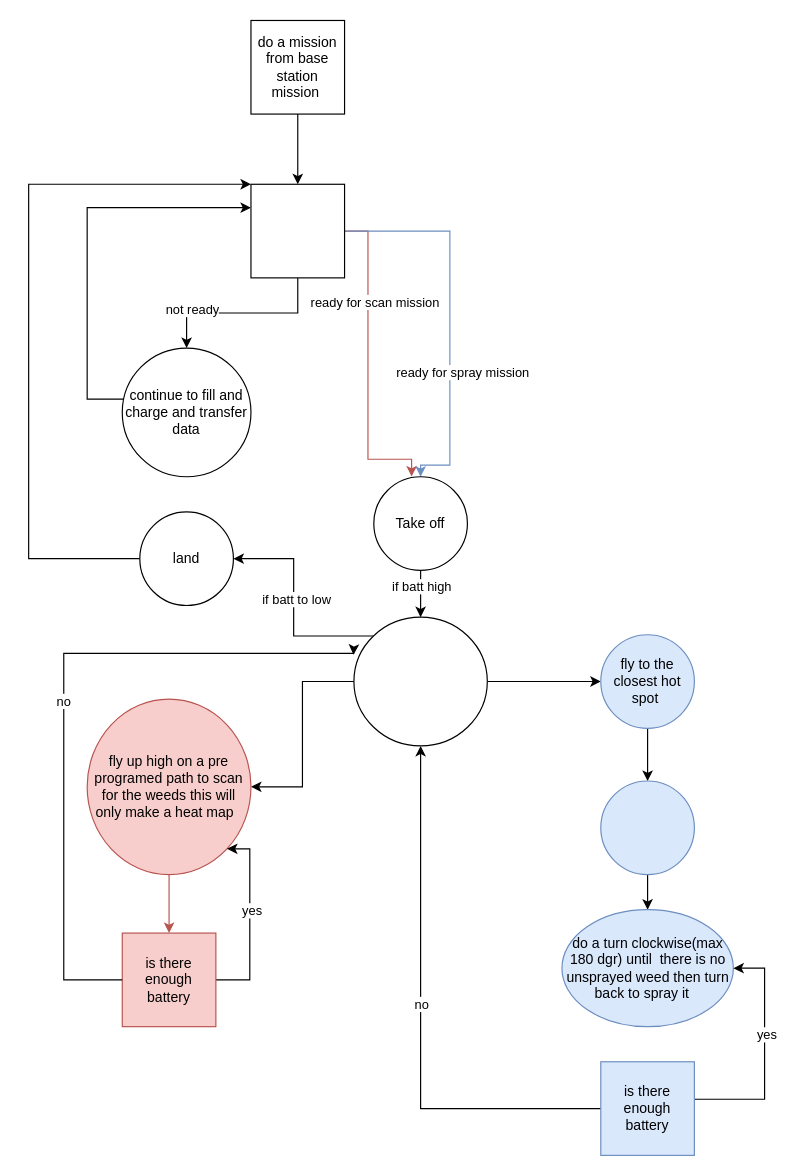
Image size: 797x1176. Some labels were removed from this diagram. The box of each missing label's shape, as (x1, y1, x2, y2) in pixels:
as approaches spray the first unsprayed weed: (600, 780, 694, 875)
check if ready to fly the given mission: (250, 183, 345, 278)
fly to clear take off point on a departure path: (353, 616, 487, 746)
